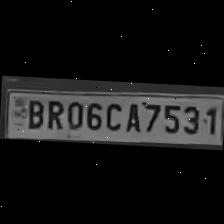0: (62, 96, 84, 130)
1: (200, 102, 220, 134)
3: (180, 100, 200, 134)
5: (158, 99, 180, 133)
6: (82, 97, 104, 129)
7: (138, 98, 160, 132)
A: (121, 98, 143, 132)
B: (23, 96, 45, 128)
C: (102, 97, 124, 130)
R: (44, 96, 64, 130)
